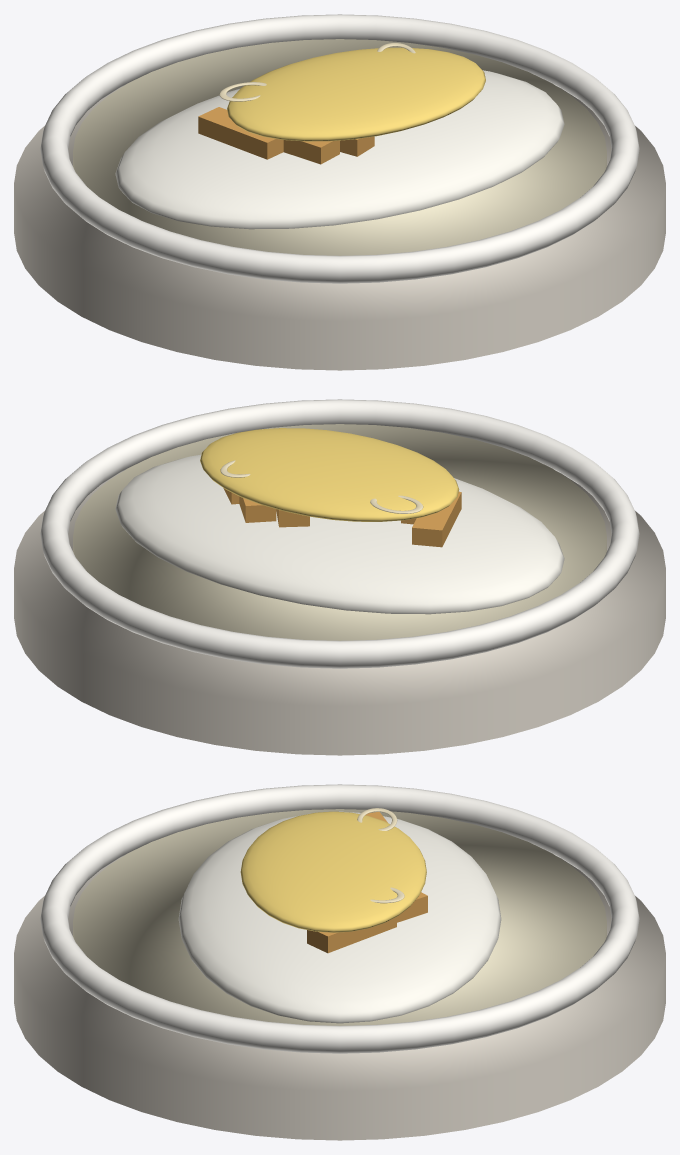
File: katsudon.glb
3 renders of one model, top to bottom at view 1: azimuth 30°, elevation 25°; view 2: azimuth 150°, elevation 25°; view 3: azimuth 270°, elevation 25°, orthographic.
Bounding box in the file's own units: 2.1 × 0.5375 × 2.1.
